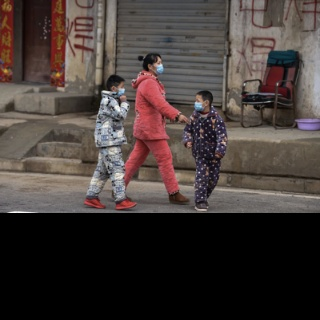with_mask: (153, 60, 164, 76), (194, 97, 204, 112), (116, 84, 125, 98)
